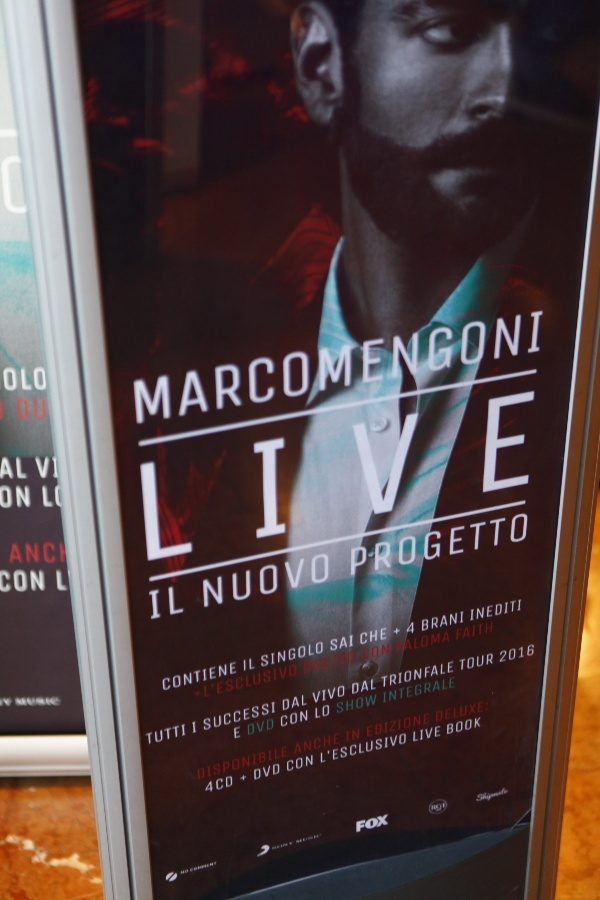text: (145, 382, 160, 575), (161, 382, 176, 575), (177, 382, 192, 575), (193, 382, 208, 575), (209, 382, 224, 575), (225, 382, 240, 575), (241, 382, 256, 575), (257, 382, 272, 575), (273, 382, 288, 575), (289, 382, 304, 575), (305, 382, 320, 575), (321, 382, 336, 575), (337, 382, 352, 575), (353, 382, 368, 575), (369, 382, 384, 575), (385, 382, 400, 575), (401, 382, 416, 575), (417, 382, 432, 575), (433, 382, 448, 575), (449, 382, 464, 575), (465, 382, 480, 575), (481, 382, 496, 575), (497, 382, 512, 575), (513, 382, 528, 575), (145, 304, 160, 434), (161, 304, 176, 434), (177, 304, 192, 434), (193, 304, 208, 434), (209, 304, 224, 434), (225, 304, 240, 434), (241, 304, 256, 434), (257, 304, 272, 434), (273, 304, 288, 434), (289, 304, 304, 434), (305, 304, 320, 434), (321, 304, 336, 434), (337, 304, 352, 434), (353, 304, 368, 434), (369, 304, 384, 434), (385, 304, 400, 434), (401, 304, 416, 434), (417, 304, 432, 434), (433, 304, 448, 434), (449, 304, 464, 434), (465, 304, 480, 434), (481, 304, 496, 434), (497, 304, 512, 434), (513, 304, 528, 434), (529, 304, 544, 434), (130, 304, 144, 434), (529, 382, 537, 575), (138, 382, 144, 575), (513, 510, 529, 580), (353, 510, 368, 580), (369, 510, 384, 580), (385, 510, 400, 580), (401, 510, 416, 580), (417, 510, 432, 580), (433, 510, 448, 580), (449, 510, 464, 580), (465, 510, 480, 580), (481, 510, 496, 580), (497, 510, 512, 580), (1, 152, 16, 215), (209, 548, 224, 610), (225, 548, 240, 610), (241, 548, 256, 610), (257, 548, 272, 610), (273, 548, 288, 610), (289, 548, 304, 610), (305, 548, 320, 610), (17, 152, 29, 215), (273, 743, 289, 782), (209, 743, 224, 782), (225, 743, 240, 782), (241, 743, 256, 782), (257, 743, 272, 782), (209, 662, 224, 700), (225, 662, 240, 700), (241, 662, 256, 700), (257, 662, 272, 700), (273, 662, 288, 700), (161, 586, 176, 622), (177, 660, 192, 695), (193, 660, 208, 695), (209, 660, 224, 695), (321, 731, 336, 766), (337, 731, 352, 766), (353, 731, 368, 766), (369, 731, 384, 766), (385, 731, 400, 766), (321, 548, 329, 610), (162, 660, 176, 695), (209, 700, 224, 732), (225, 700, 240, 732), (241, 700, 256, 732), (257, 700, 272, 732), (273, 640, 288, 671), (289, 640, 304, 671), (305, 640, 320, 671), (385, 675, 400, 706), (401, 675, 416, 706), (417, 675, 432, 706), (433, 675, 448, 706), (197, 743, 208, 782), (225, 660, 237, 695), (385, 661, 400, 689), (401, 661, 416, 689), (417, 661, 432, 689), (433, 661, 448, 689), (17, 365, 32, 392), (1, 568, 16, 595), (17, 568, 32, 595), (369, 712, 384, 739), (385, 712, 400, 739), (401, 712, 416, 739), (149, 586, 160, 622), (305, 650, 320, 676), (321, 650, 336, 676), (337, 650, 352, 676), (33, 365, 47, 392), (1, 485, 16, 510), (17, 485, 32, 510), (449, 699, 464, 724), (465, 699, 480, 724), (202, 548, 208, 610), (465, 715, 481, 738), (2, 456, 16, 482), (17, 456, 31, 482), (49, 484, 63, 510), (17, 541, 32, 565), (33, 541, 48, 565), (481, 599, 496, 623), (497, 599, 512, 623), (401, 630, 416, 654), (417, 630, 432, 654), (433, 630, 448, 654), (305, 732, 320, 756), (321, 732, 336, 756), (3, 365, 16, 392), (33, 568, 46, 595), (417, 712, 430, 739), (34, 455, 48, 480), (17, 398, 32, 421), (433, 610, 448, 633), (449, 610, 464, 633), (161, 723, 176, 746), (337, 693, 352, 716), (353, 693, 368, 716), (449, 715, 464, 738), (369, 813, 384, 836), (289, 662, 298, 700), (261, 640, 272, 671), (481, 786, 496, 808), (177, 586, 186, 622), (146, 723, 160, 746), (337, 634, 353, 654), (465, 621, 480, 642), (513, 644, 528, 665), (289, 708, 304, 729), (257, 762, 272, 783), (417, 724, 432, 745), (210, 774, 224, 796), (369, 627, 384, 647), (465, 653, 480, 673), (436, 699, 448, 724), (33, 398, 46, 421), (369, 643, 384, 662), (321, 685, 336, 704), (257, 718, 272, 737), (289, 754, 304, 773), (356, 813, 368, 836), (289, 694, 304, 712), (497, 786, 509, 808), (481, 653, 494, 673), (353, 678, 368, 695), (481, 621, 493, 642), (500, 644, 512, 665), (49, 455, 59, 480), (470, 599, 480, 623), (422, 610, 432, 633), (193, 860, 208, 875), (273, 840, 288, 855), (305, 832, 320, 847), (243, 657, 256, 674), (449, 675, 456, 706), (513, 599, 522, 623), (401, 731, 407, 766), (177, 723, 186, 746), (481, 699, 489, 724), (49, 541, 57, 565), (56, 569, 64, 593), (407, 618, 416, 639), (369, 693, 377, 716), (1, 697, 16, 709), (17, 697, 32, 709), (33, 697, 48, 709), (225, 774, 233, 796), (247, 718, 256, 737), (305, 754, 314, 773), (280, 708, 288, 729), (297, 732, 304, 756), (433, 724, 441, 745), (433, 802, 445, 816), (360, 627, 368, 647), (42, 484, 48, 510), (204, 662, 208, 700), (312, 685, 320, 704), (337, 685, 345, 704), (457, 621, 464, 642), (273, 762, 280, 783), (321, 704, 330, 720), (49, 697, 61, 709), (350, 510, 352, 580), (449, 661, 454, 689), (369, 678, 377, 695), (241, 774, 256, 783), (545, 304, 546, 434), (204, 700, 208, 732), (529, 644, 535, 665), (65, 569, 70, 593), (330, 634, 336, 654), (209, 860, 217, 875), (296, 832, 304, 847), (362, 643, 368, 662), (345, 728, 352, 744), (353, 728, 360, 744), (459, 653, 464, 673), (181, 868, 192, 877), (194, 690, 208, 697), (12, 541, 16, 565), (273, 700, 276, 732), (321, 640, 324, 671), (385, 813, 389, 836), (283, 694, 288, 712), (381, 661, 384, 689), (385, 643, 389, 662), (235, 726, 240, 741), (397, 630, 400, 654), (337, 732, 340, 756), (477, 786, 480, 808), (316, 704, 320, 720), (305, 708, 308, 729), (413, 724, 416, 745), (394, 627, 400, 637), (289, 840, 293, 855), (305, 694, 308, 712), (353, 650, 355, 676), (449, 630, 451, 654), (193, 721, 196, 735), (254, 762, 256, 783), (385, 627, 387, 647), (383, 675, 384, 706), (190, 860, 192, 875), (367, 712, 368, 739), (303, 650, 304, 676), (447, 715, 448, 738), (273, 718, 274, 737), (287, 754, 288, 773), (321, 832, 322, 847), (431, 802, 432, 816)
